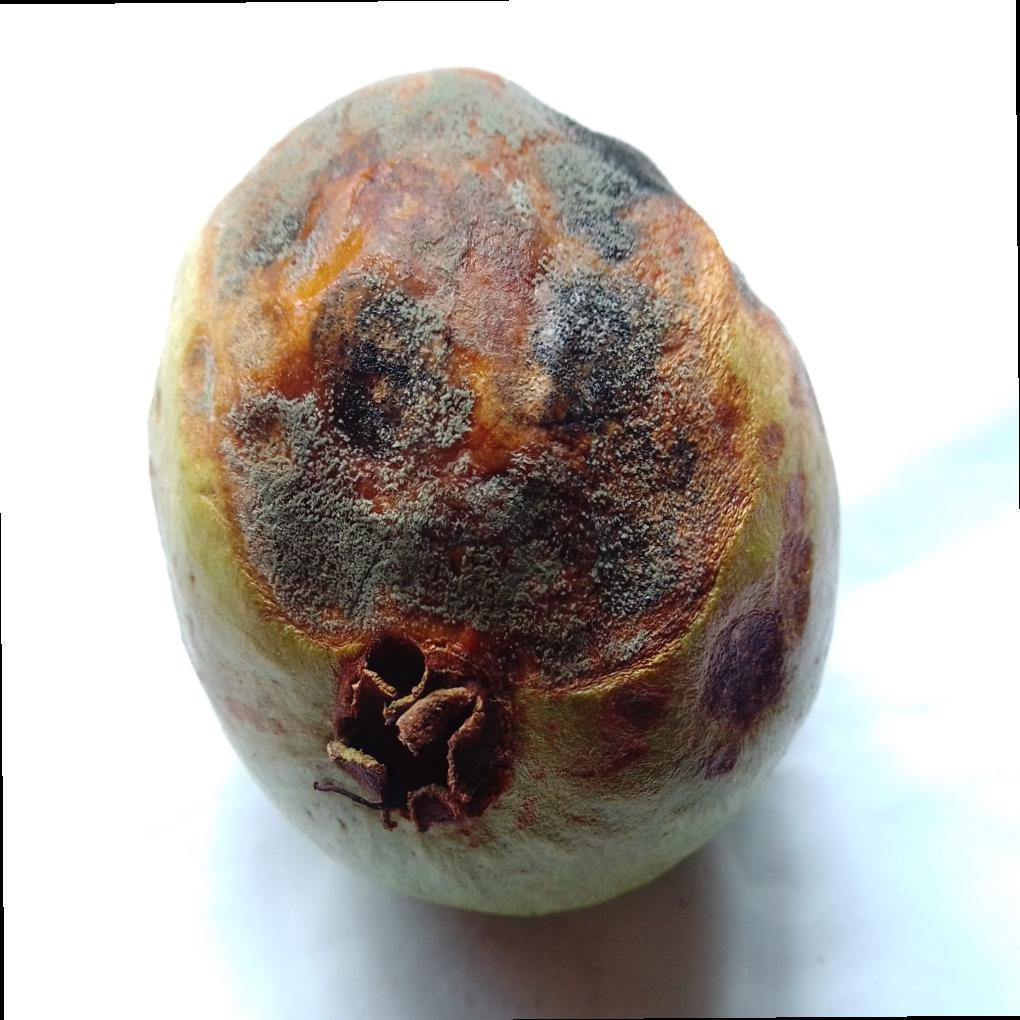FreshOrange: (146, 68, 843, 921)
